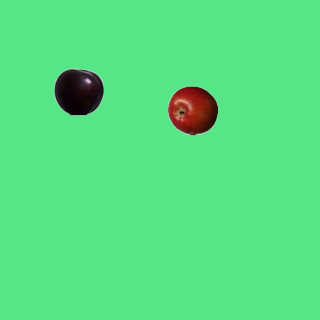Apple Braeburn: (167, 85, 217, 135)
Cherry Wax Black: (53, 66, 103, 116)
